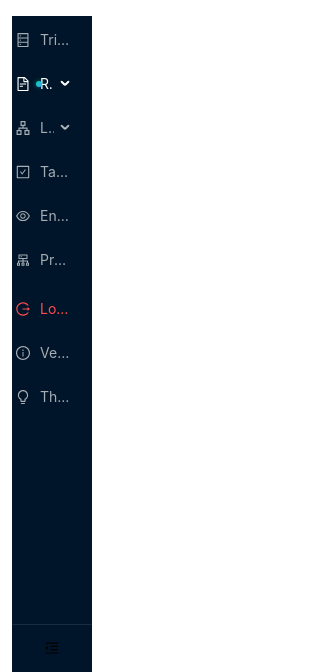
Scenario: LeftSideMenu › Active Child Indicator › should hide indicator dot when submenu is opened in collapsed mode
Expected: the element with class "submenu-active-indicator" is shown, [36, 81, 42, 87]
# Open the submenu
Step 1. Click the menu item "Reporting" → x=60, y=84, box [16, 75, 104, 92]
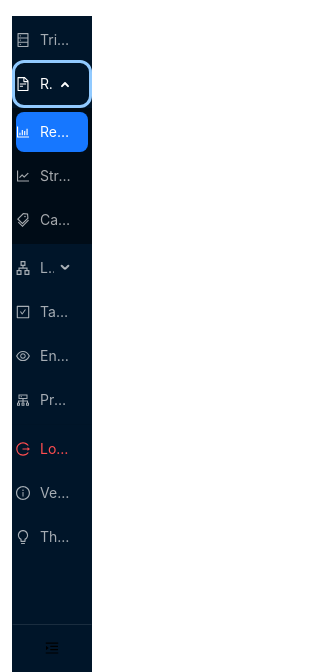
Now the element with class "submenu-active-indicator" is gone
